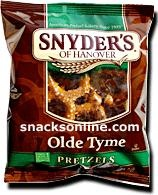grozi_16: (0, 0, 157, 193)
